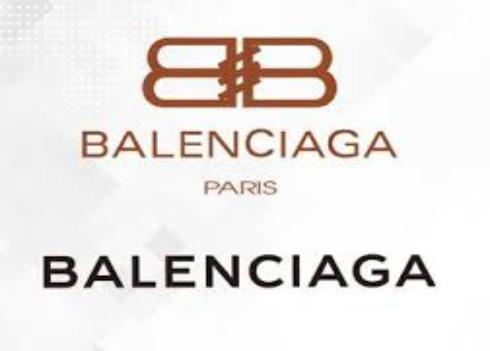BALENCIAGA: (136, 29, 344, 112), (38, 252, 439, 291), (71, 129, 402, 163)
